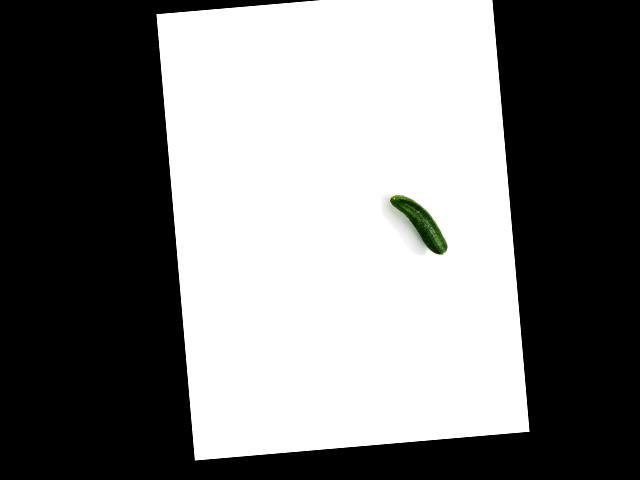cucumber: (389, 191, 447, 258)
